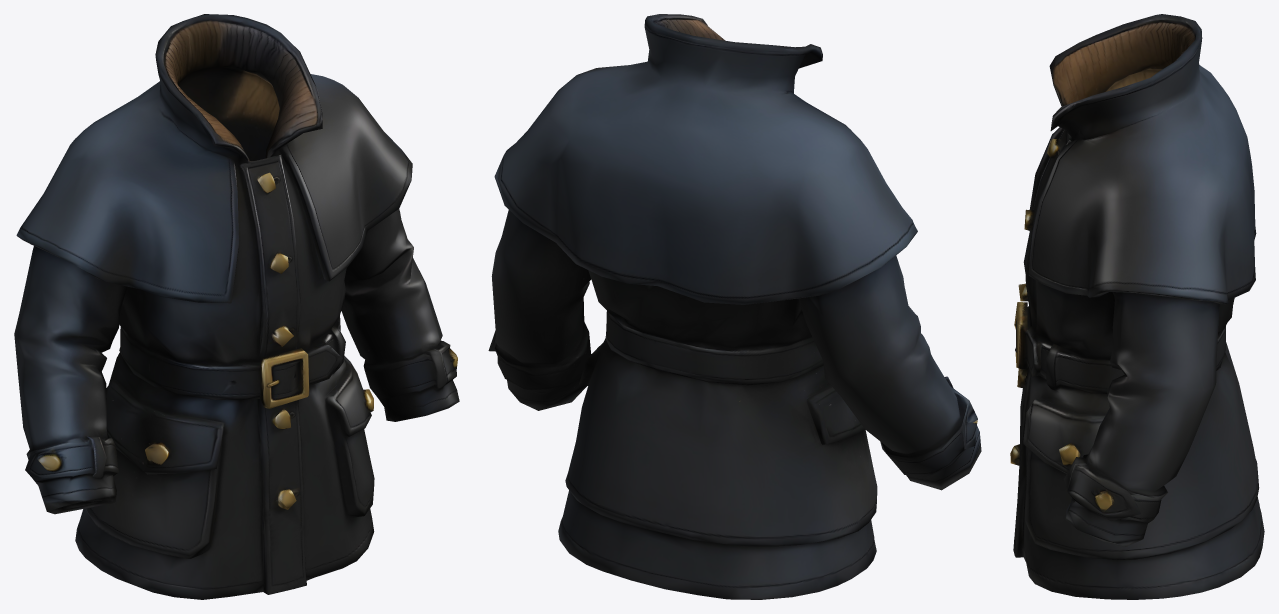
Rendered from PIPELINE3D-arm_oilskin_coat-batch2-11-delivery-model-fbx-6370290fdb34-a3a5be020d89.fbx.
3 views of the same model, side by side, from view 1: azimuth 30°, elevation 25°; view 2: azimuth 150°, elevation 25°; view 3: azimuth 270°, elevation 25° (orthographic). The views are drawn at different scales.
Parts seen in each view (by area): view 1: tripo_node_adc626ff-f2b1-4a5c-883d-1bbccfb8ea03; view 2: tripo_node_adc626ff-f2b1-4a5c-883d-1bbccfb8ea03; view 3: tripo_node_adc626ff-f2b1-4a5c-883d-1bbccfb8ea03.
Boxes of the visible parts, x1,y1,x2,y2 form: tripo_node_adc626ff-f2b1-4a5c-883d-1bbccfb8ea03: (14, 14, 459, 599); tripo_node_adc626ff-f2b1-4a5c-883d-1bbccfb8ea03: (488, 14, 981, 599); tripo_node_adc626ff-f2b1-4a5c-883d-1bbccfb8ea03: (1010, 14, 1264, 599).
Size of the model in its own units: 107 by 120 by 53.66.
Materials: 1 (1 with a texture image).
